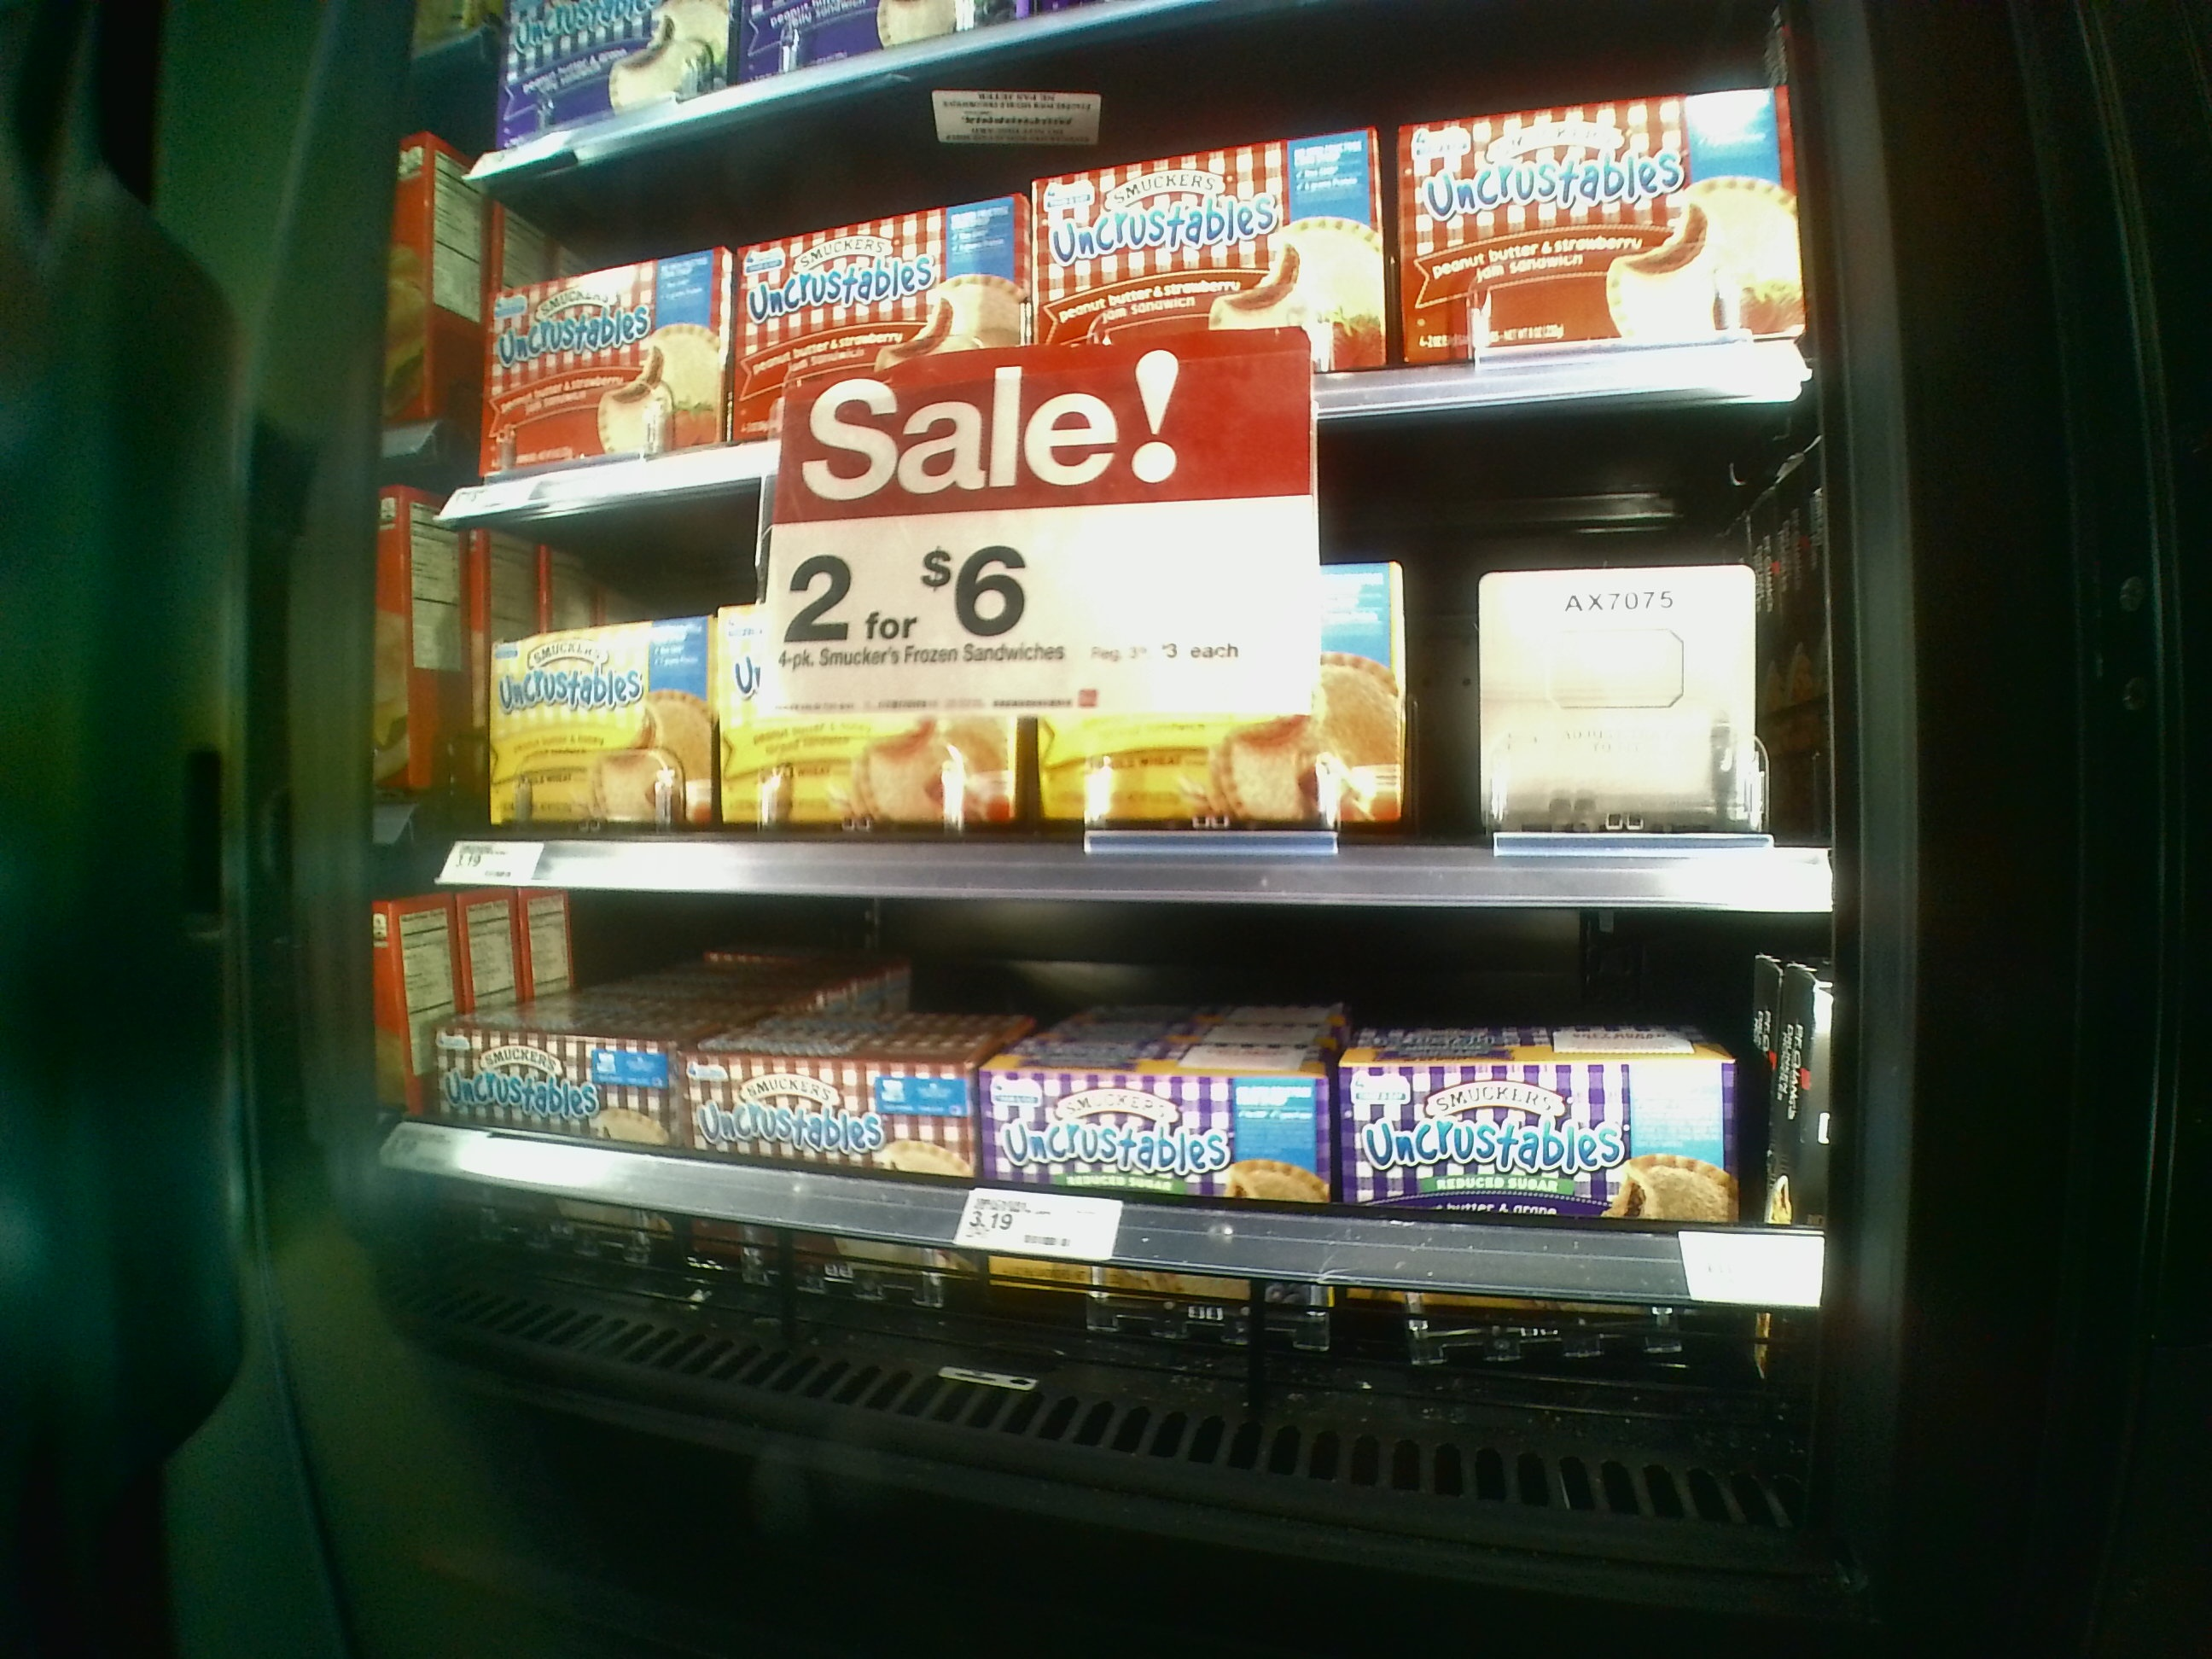shelf: (394, 849, 1804, 1506), (456, 495, 1797, 903), (451, 164, 1797, 411)
